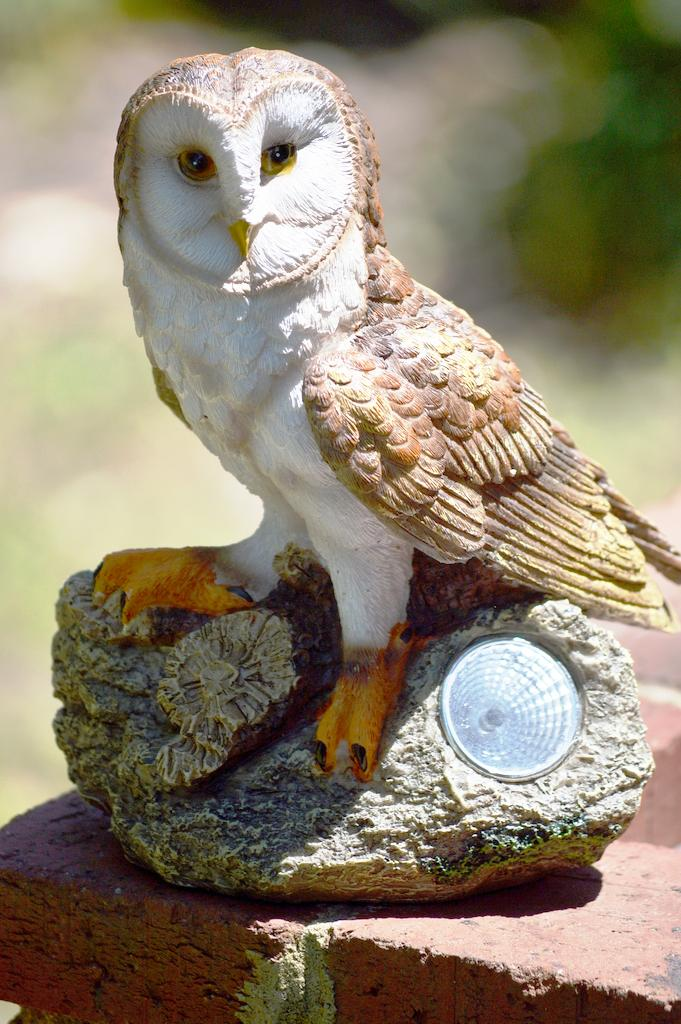Owl: (96, 46, 680, 774)
